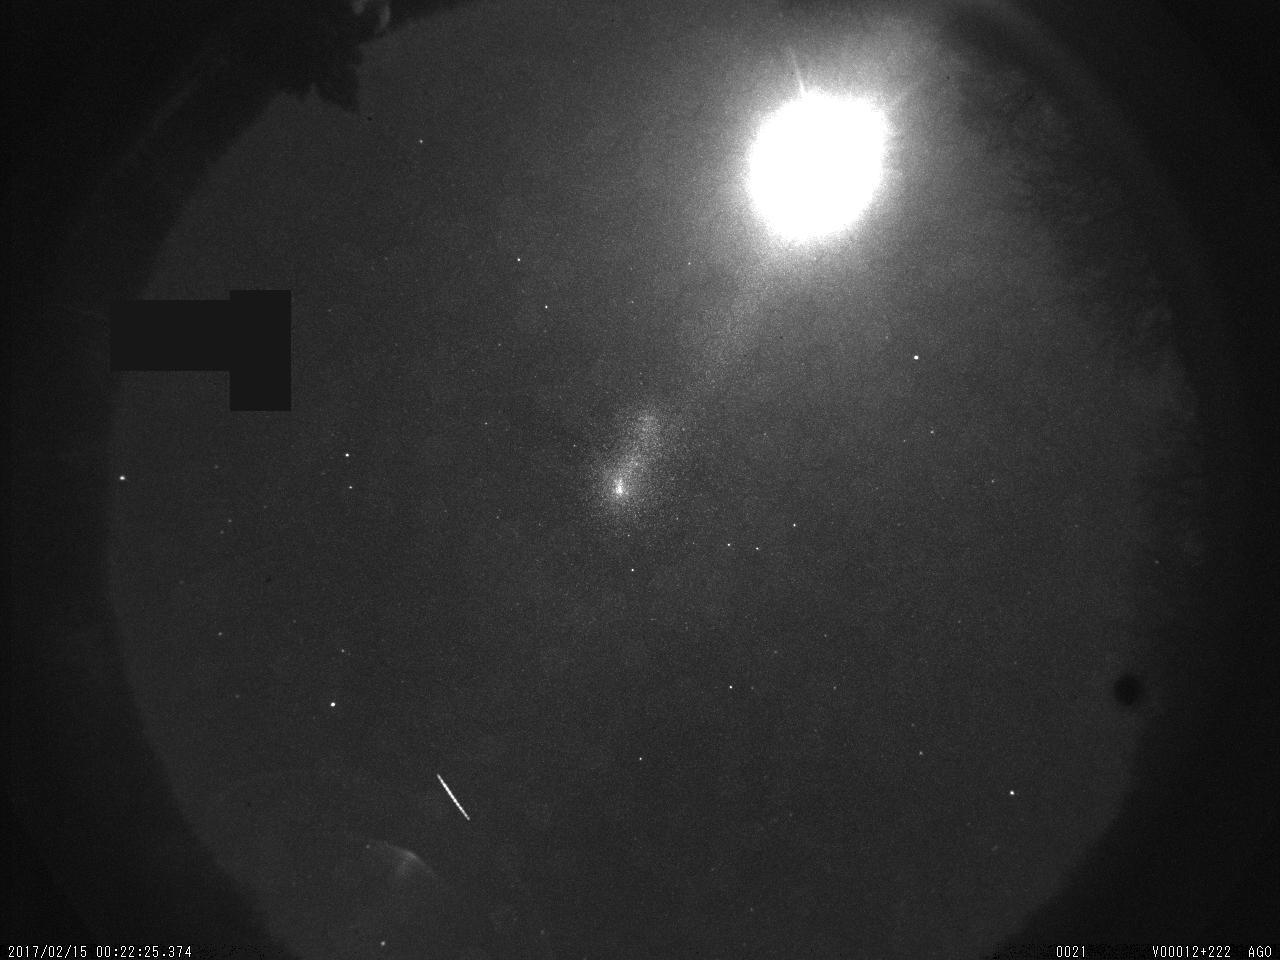meteor: (419, 760, 485, 834)
